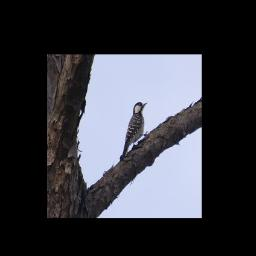Woodpecker: (117, 98, 150, 164)
